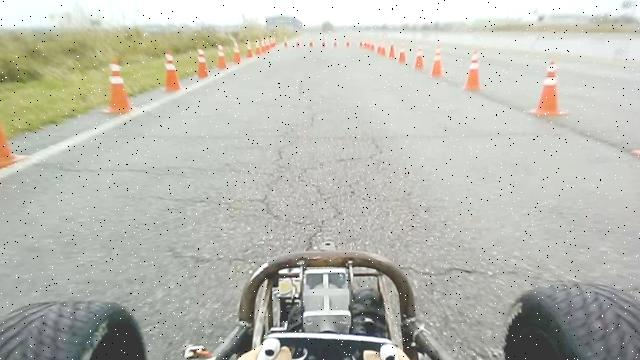red cone: (528, 59, 569, 117), (102, 57, 133, 114), (162, 50, 182, 92), (464, 49, 481, 91), (196, 47, 210, 78), (431, 47, 445, 78), (216, 44, 227, 70), (232, 38, 242, 64), (414, 47, 424, 69), (398, 48, 406, 64), (388, 42, 396, 58), (246, 40, 253, 58)
